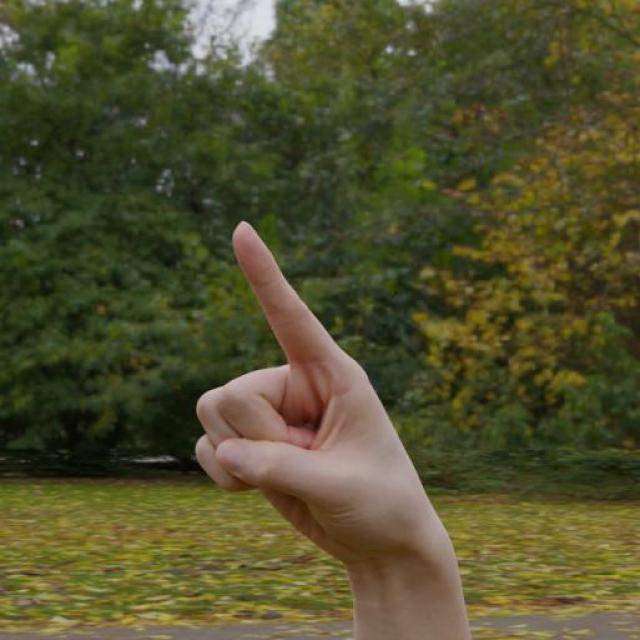Z: (192, 219, 452, 567)
